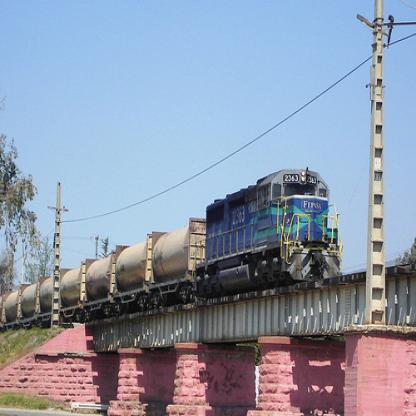train: (0, 165, 341, 329)
